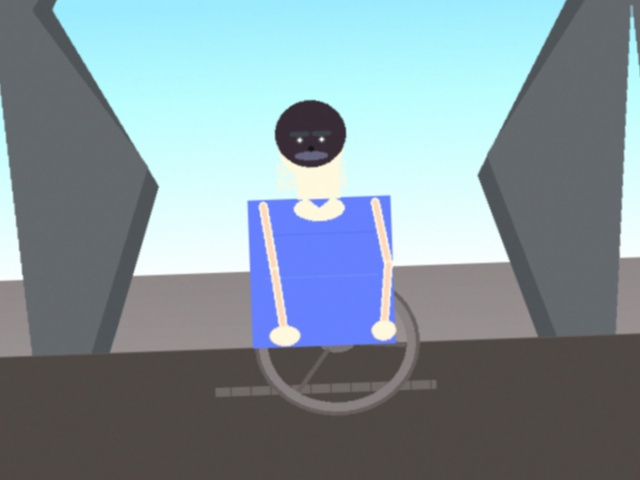normal_driving: (141, 181, 333, 343)
